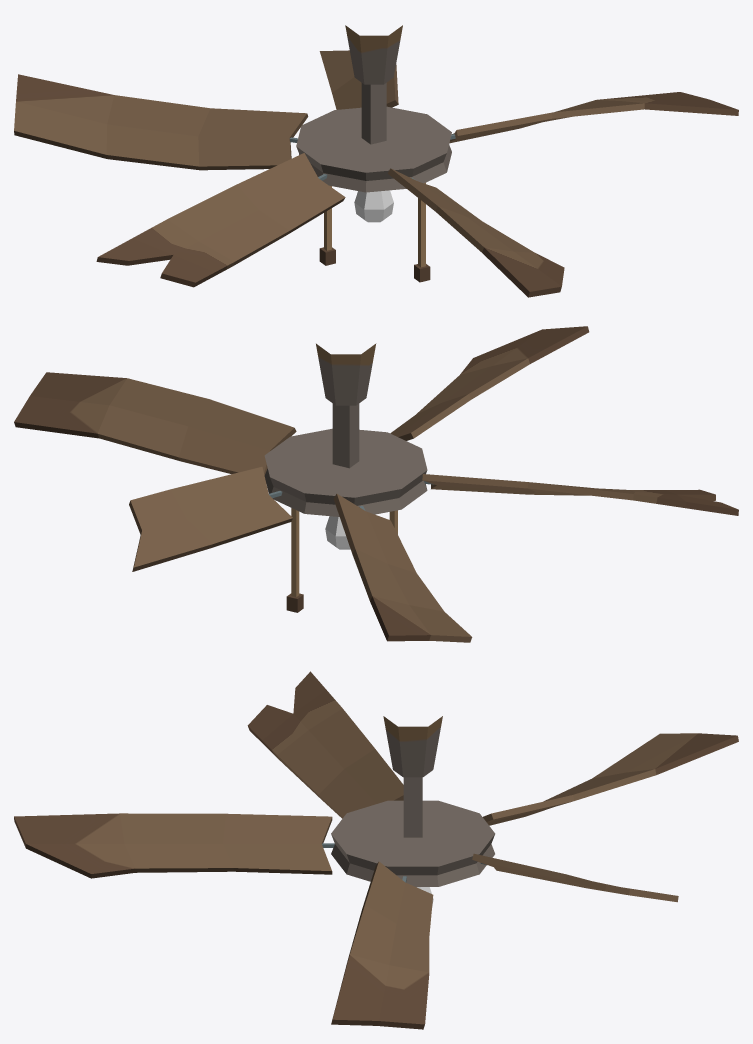
File: SM_Ceiling_Fan.gltf
The picture shows the model from 3 angles, top to bottom: view 1: azimuth 30°, elevation 25°; view 2: azimuth 150°, elevation 25°; view 3: azimuth 270°, elevation 25°; orthographic projection. The views are drawn at different scales.
Visible parts, largest first — view 1: SM_Ceiling_Fan_Blade, SM_Ceiling_Fan; view 2: SM_Ceiling_Fan_Blade, SM_Ceiling_Fan; view 3: SM_Ceiling_Fan_Blade, SM_Ceiling_Fan.
Boxes of the visible parts, x1,y1,x2,y2 form: SM_Ceiling_Fan_Blade: [14, 50, 738, 297]; SM_Ceiling_Fan: [296, 25, 451, 282]; SM_Ceiling_Fan_Blade: [14, 326, 738, 642]; SM_Ceiling_Fan: [264, 343, 427, 612]; SM_Ceiling_Fan_Blade: [14, 671, 738, 1029]; SM_Ceiling_Fan: [331, 716, 495, 907].
Size of the model in its own units: 2.06 by 0.8042 by 1.93.
2 materials, 1 textured.
